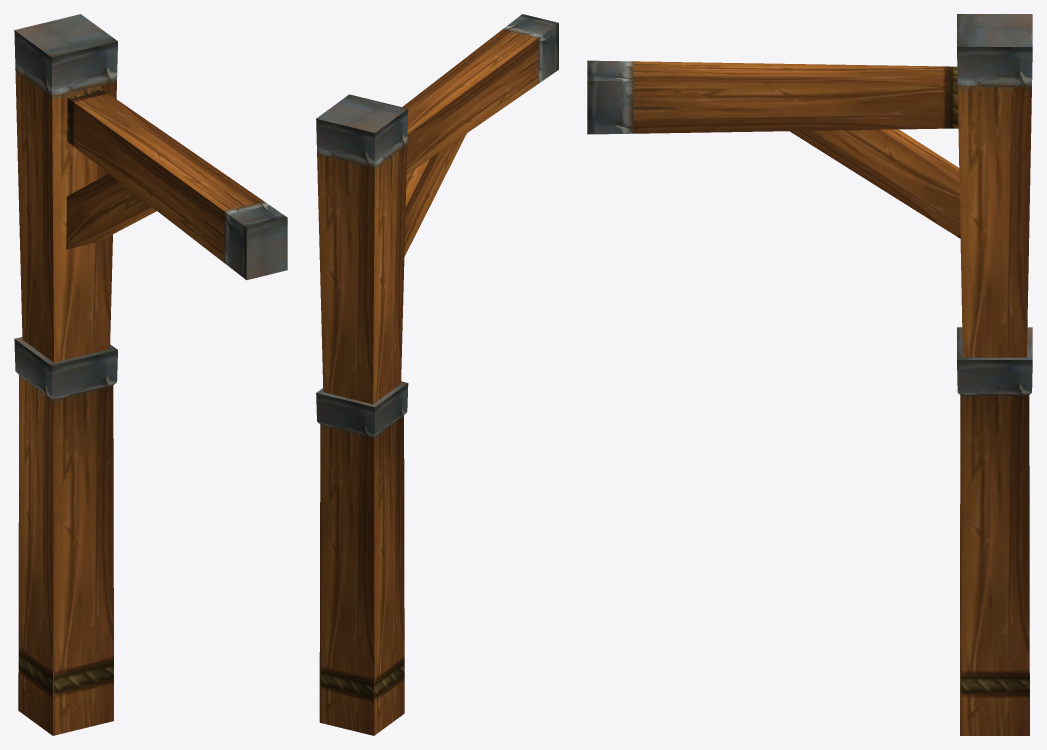
The model's file is environment_common_muban_002_b.FBX.
3 renders of one model, left to right at view 1: azimuth 30°, elevation 25°; view 2: azimuth 150°, elevation 25°; view 3: azimuth 270°, elevation 25°, orthographic. The views are drawn at different scales.
Visible parts, largest first — view 1: environment_common_muban_002_b; view 2: environment_common_muban_002_b; view 3: environment_common_muban_002_b.
Boxes of the visible parts, x1,y1,x2,y2 form: environment_common_muban_002_b: (14, 14, 287, 735); environment_common_muban_002_b: (316, 14, 558, 735); environment_common_muban_002_b: (587, 14, 1032, 735).
Bounding box in the file's own units: 78.02 × 765 × 447.
